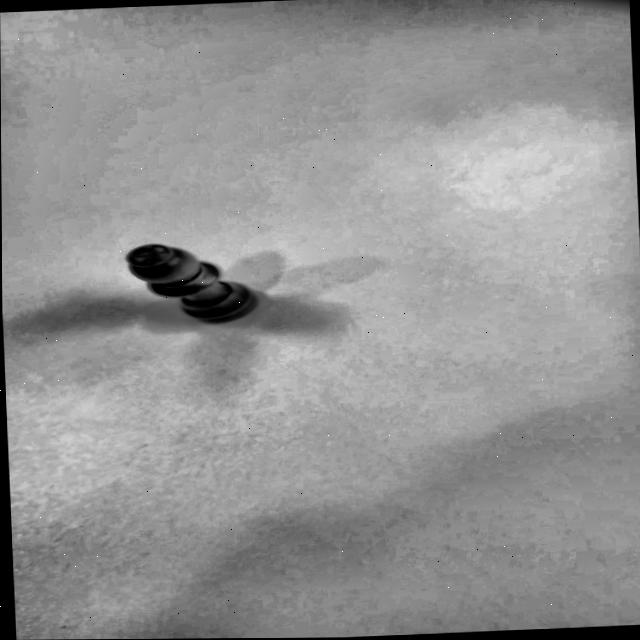black-bishop: (118, 228, 268, 330)
